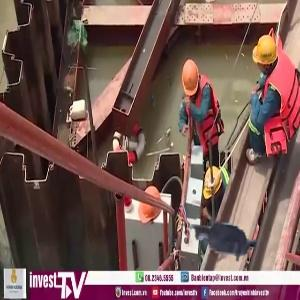drone: (177, 190, 279, 292)
